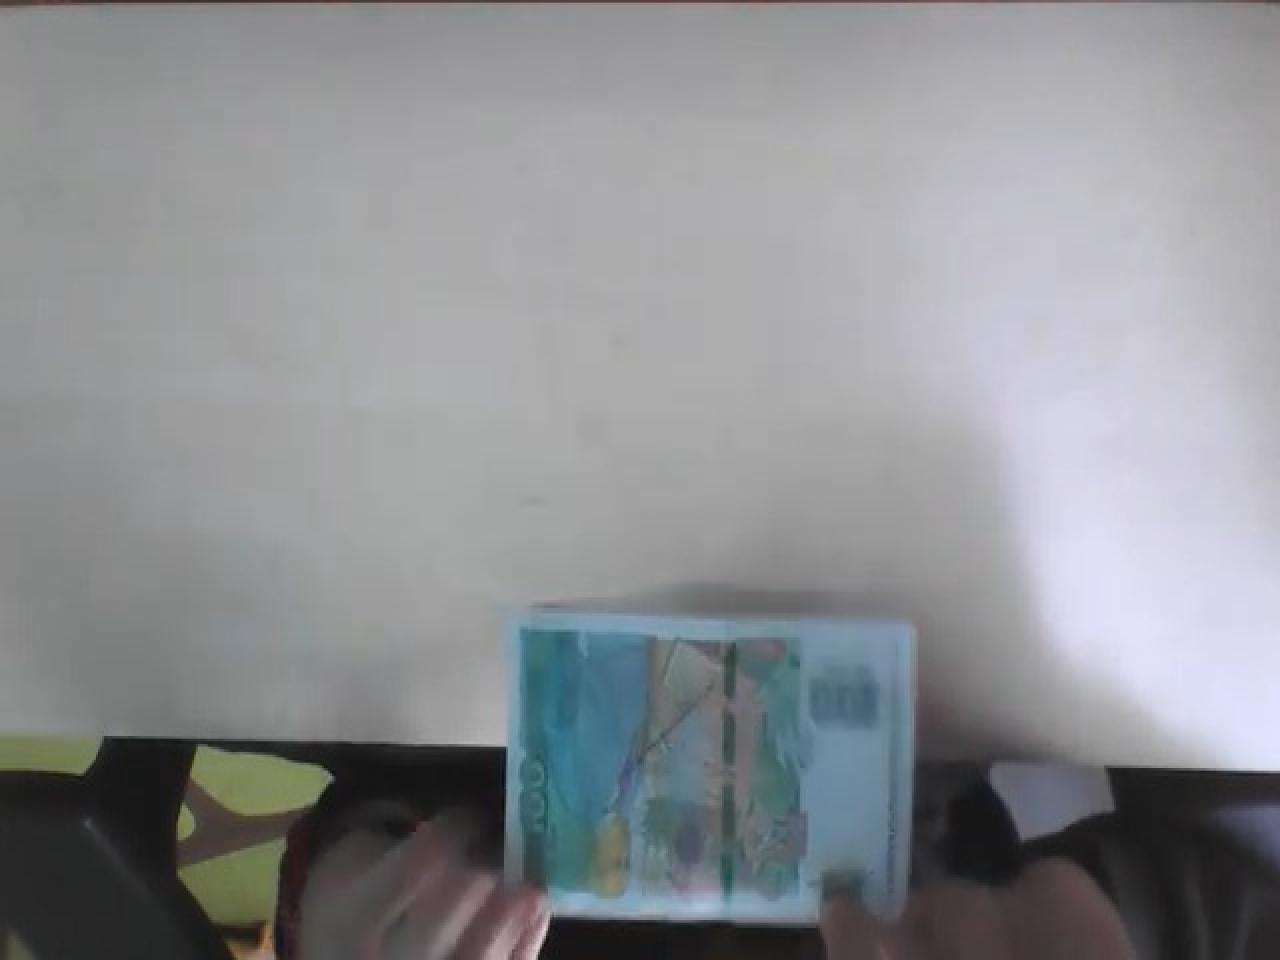100leva: (504, 610, 920, 930)
